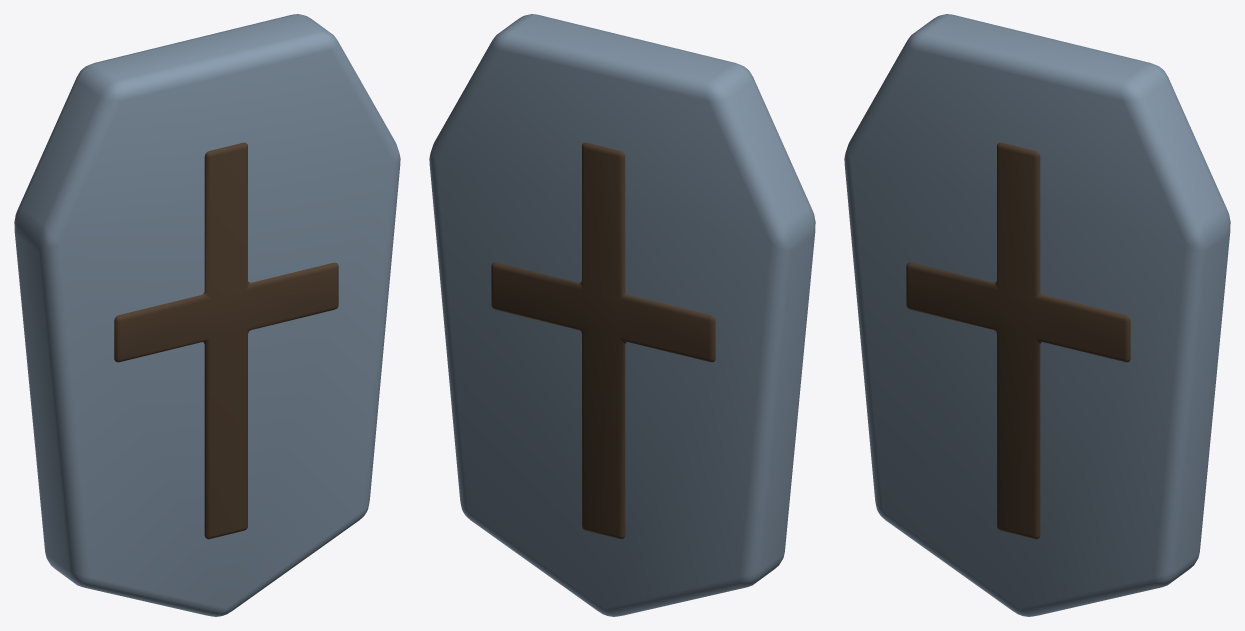
File: shield_v7.glb
3 views of the same model, side by side, from view 1: azimuth 30°, elevation 25°; view 2: azimuth 150°, elevation 25°; view 3: azimuth 330°, elevation 25° (orthographic).
Parts seen in each view (by area): view 1: COFFIN_SHIELD_PRIMARY, COFFIN_CROSS_SECONDARY; view 2: COFFIN_SHIELD_PRIMARY, COFFIN_CROSS_SECONDARY; view 3: COFFIN_SHIELD_PRIMARY, COFFIN_CROSS_SECONDARY.
Part boxes in pixels (x1=…): COFFIN_SHIELD_PRIMARY: x1=14, y1=14, x2=400, y2=616; COFFIN_CROSS_SECONDARY: x1=114, y1=142, x2=338, y2=539; COFFIN_SHIELD_PRIMARY: x1=429, y1=14, x2=815, y2=616; COFFIN_CROSS_SECONDARY: x1=491, y1=142, x2=715, y2=539; COFFIN_SHIELD_PRIMARY: x1=844, y1=14, x2=1230, y2=616; COFFIN_CROSS_SECONDARY: x1=906, y1=142, x2=1130, y2=539.
Bounding box in the file's own units: 1.99 × 2.96 × 0.4.
